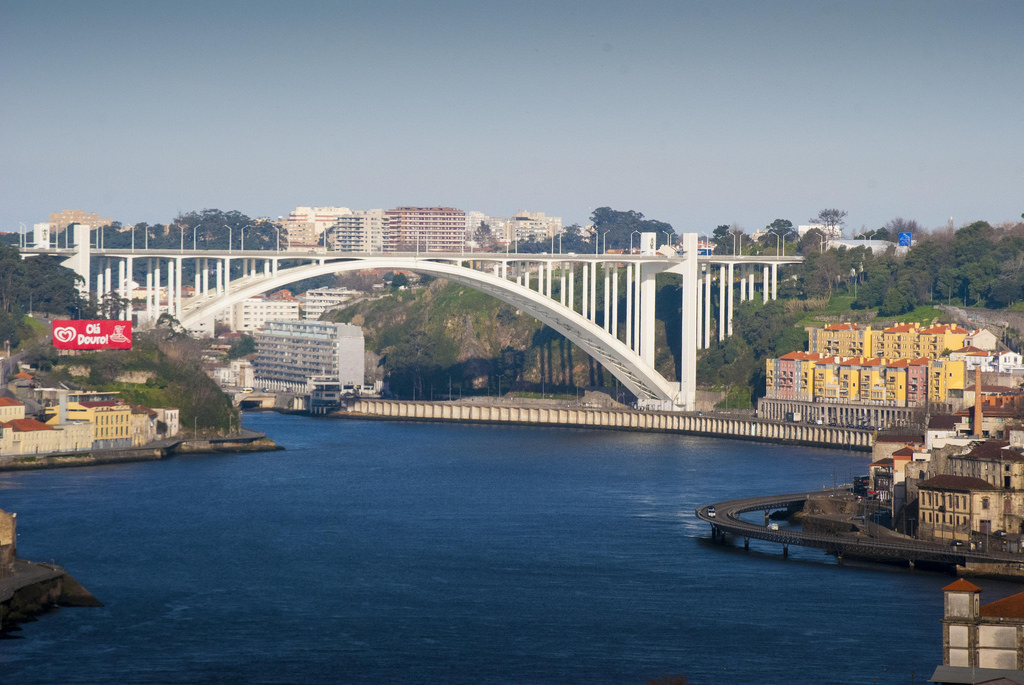arrabida: (12, 221, 805, 415)
